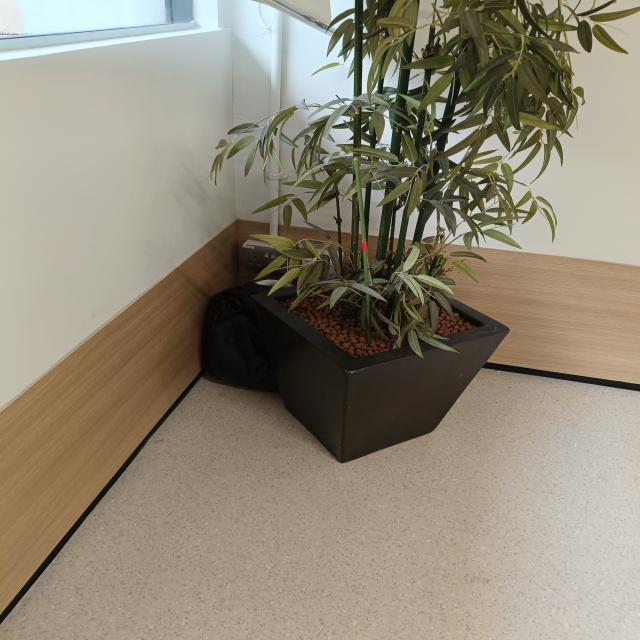Pot: (252, 262, 514, 463)
